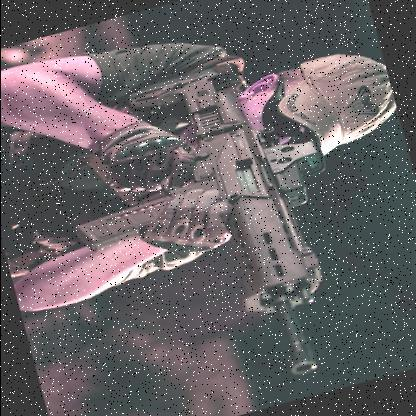rifle: (59, 49, 349, 416)
